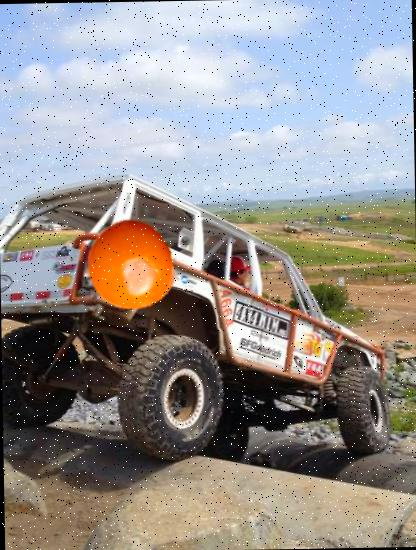Tomato: (83, 218, 178, 314)
